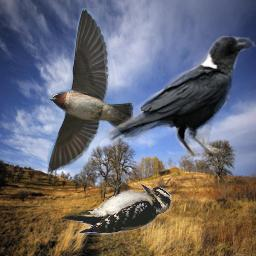Crow: (106, 31, 256, 161)
Swallow: (47, 8, 134, 173)
Woodpecker: (59, 182, 178, 238)
